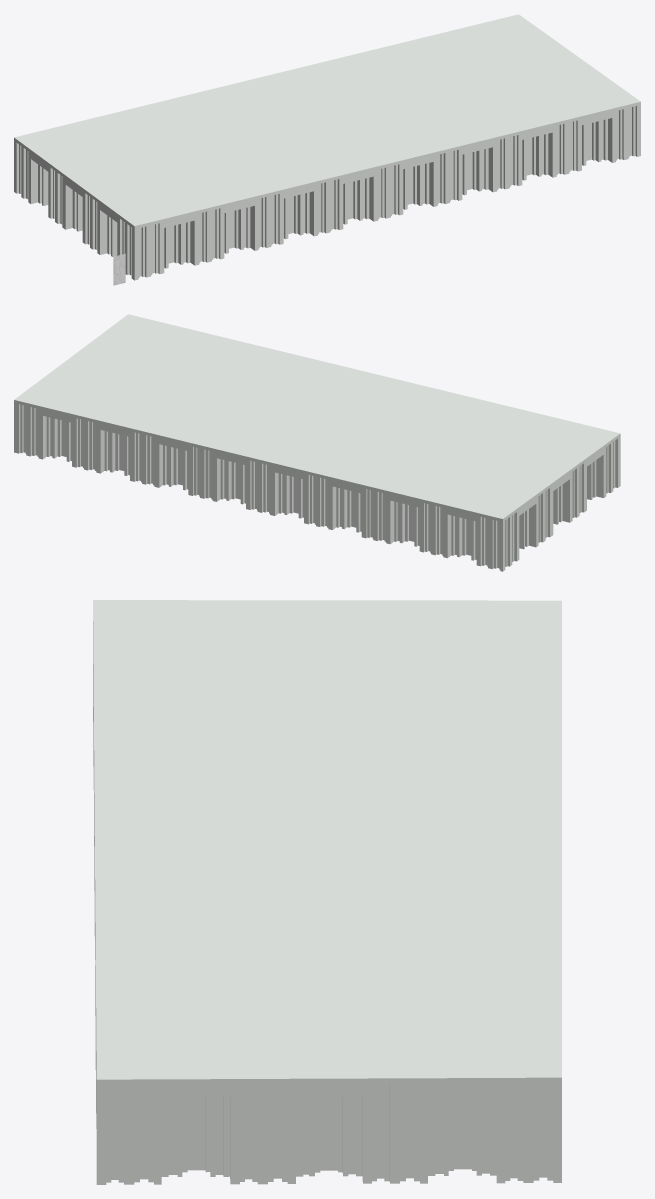
The picture shows the model from 3 angles, top to bottom: view 1: azimuth 30°, elevation 25°; view 2: azimuth 150°, elevation 25°; view 3: azimuth 270°, elevation 25°; orthographic projection. The views are drawn at different scales.
Visible parts, largest first — view 1: Mesh1 Model; view 2: Mesh1 Model; view 3: Mesh1 Model.
Boxes of the visible parts, x1=… form: Mesh1 Model: x1=14, y1=14, x2=640, y2=280; Mesh1 Model: x1=14, y1=314, x2=620, y2=571; Mesh1 Model: x1=93, y1=600, x2=561, y2=1184.
Bounding box in the file's own units: 30.44 × 2.99 × 12.08.
Materials: 3 (2 with a texture image).
